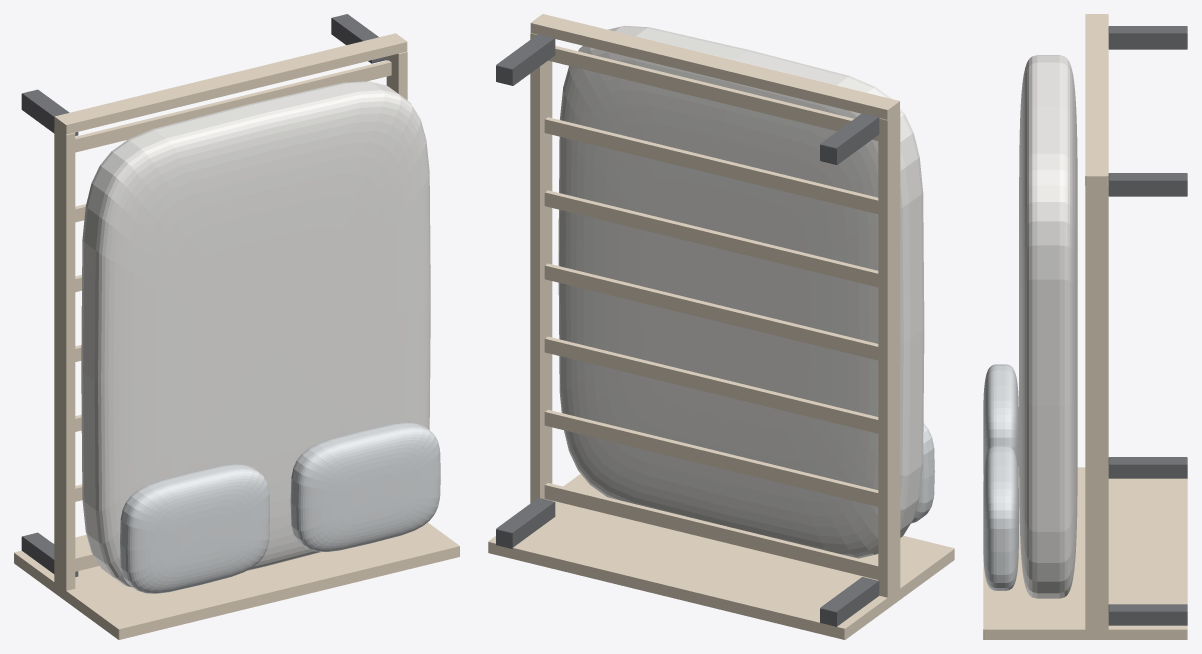
The model's file is bed_double.glb.
The picture shows the model from 3 angles, left to right: view 1: azimuth 30°, elevation 25°; view 2: azimuth 150°, elevation 25°; view 3: azimuth 270°, elevation 25°; orthographic projection. The views are drawn at different scales.
Visible parts, largest first — view 1: mattress, frame_15, pillow_0, pillow_1, frame_6, frame_5, frame_14, frame_1, frame_3, frame, frame_7; view 2: mattress, frame_15, frame_6, frame_7, frame_5, frame_11, frame_8, frame_12, frame_9, frame_10, frame_13, frame_14 (+5 smaller); view 3: mattress, frame_15, frame_7, pillow_1, frame_5, pillow_0, frame_1, frame_3, frame, frame_2.
Part boxes in pixels (box(x1,y1,x2,y2)): mattress: box(81, 81, 430, 587); frame_15: box(14, 522, 459, 639); pillow_0: box(120, 464, 269, 593); pillow_1: box(290, 422, 440, 551); frame_6: box(54, 126, 75, 591); frame_5: box(54, 33, 407, 134); frame_14: box(75, 60, 391, 152); frame_1: box(21, 89, 78, 135); frame_3: box(331, 14, 386, 63); frame: box(21, 532, 78, 576); frame_7: box(386, 51, 407, 100); mattress: box(558, 25, 924, 558); frame_15: box(488, 474, 954, 639); frame_6: box(878, 111, 900, 598); frame_7: box(530, 33, 552, 503); frame_5: box(530, 14, 899, 119); frame_11: box(544, 263, 878, 360); frame_8: box(544, 483, 878, 579); frame_12: box(544, 190, 878, 287); frame_9: box(544, 409, 878, 506); frame_10: box(544, 336, 878, 433); frame_13: box(544, 117, 878, 214); frame_14: box(548, 46, 878, 140); mattress: box(1019, 55, 1077, 598); frame_15: box(983, 467, 1187, 639); frame_7: box(1085, 185, 1108, 630); pillow_1: box(983, 445, 1018, 590); frame_5: box(1085, 14, 1108, 185); pillow_0: box(983, 364, 1018, 476); frame_1: box(1108, 26, 1187, 49); frame_3: box(1108, 173, 1187, 196); frame: box(1108, 457, 1187, 478); frame_2: box(1108, 604, 1187, 625).
Bounding box in the file's own units: 1.5 × 2 × 0.8.
